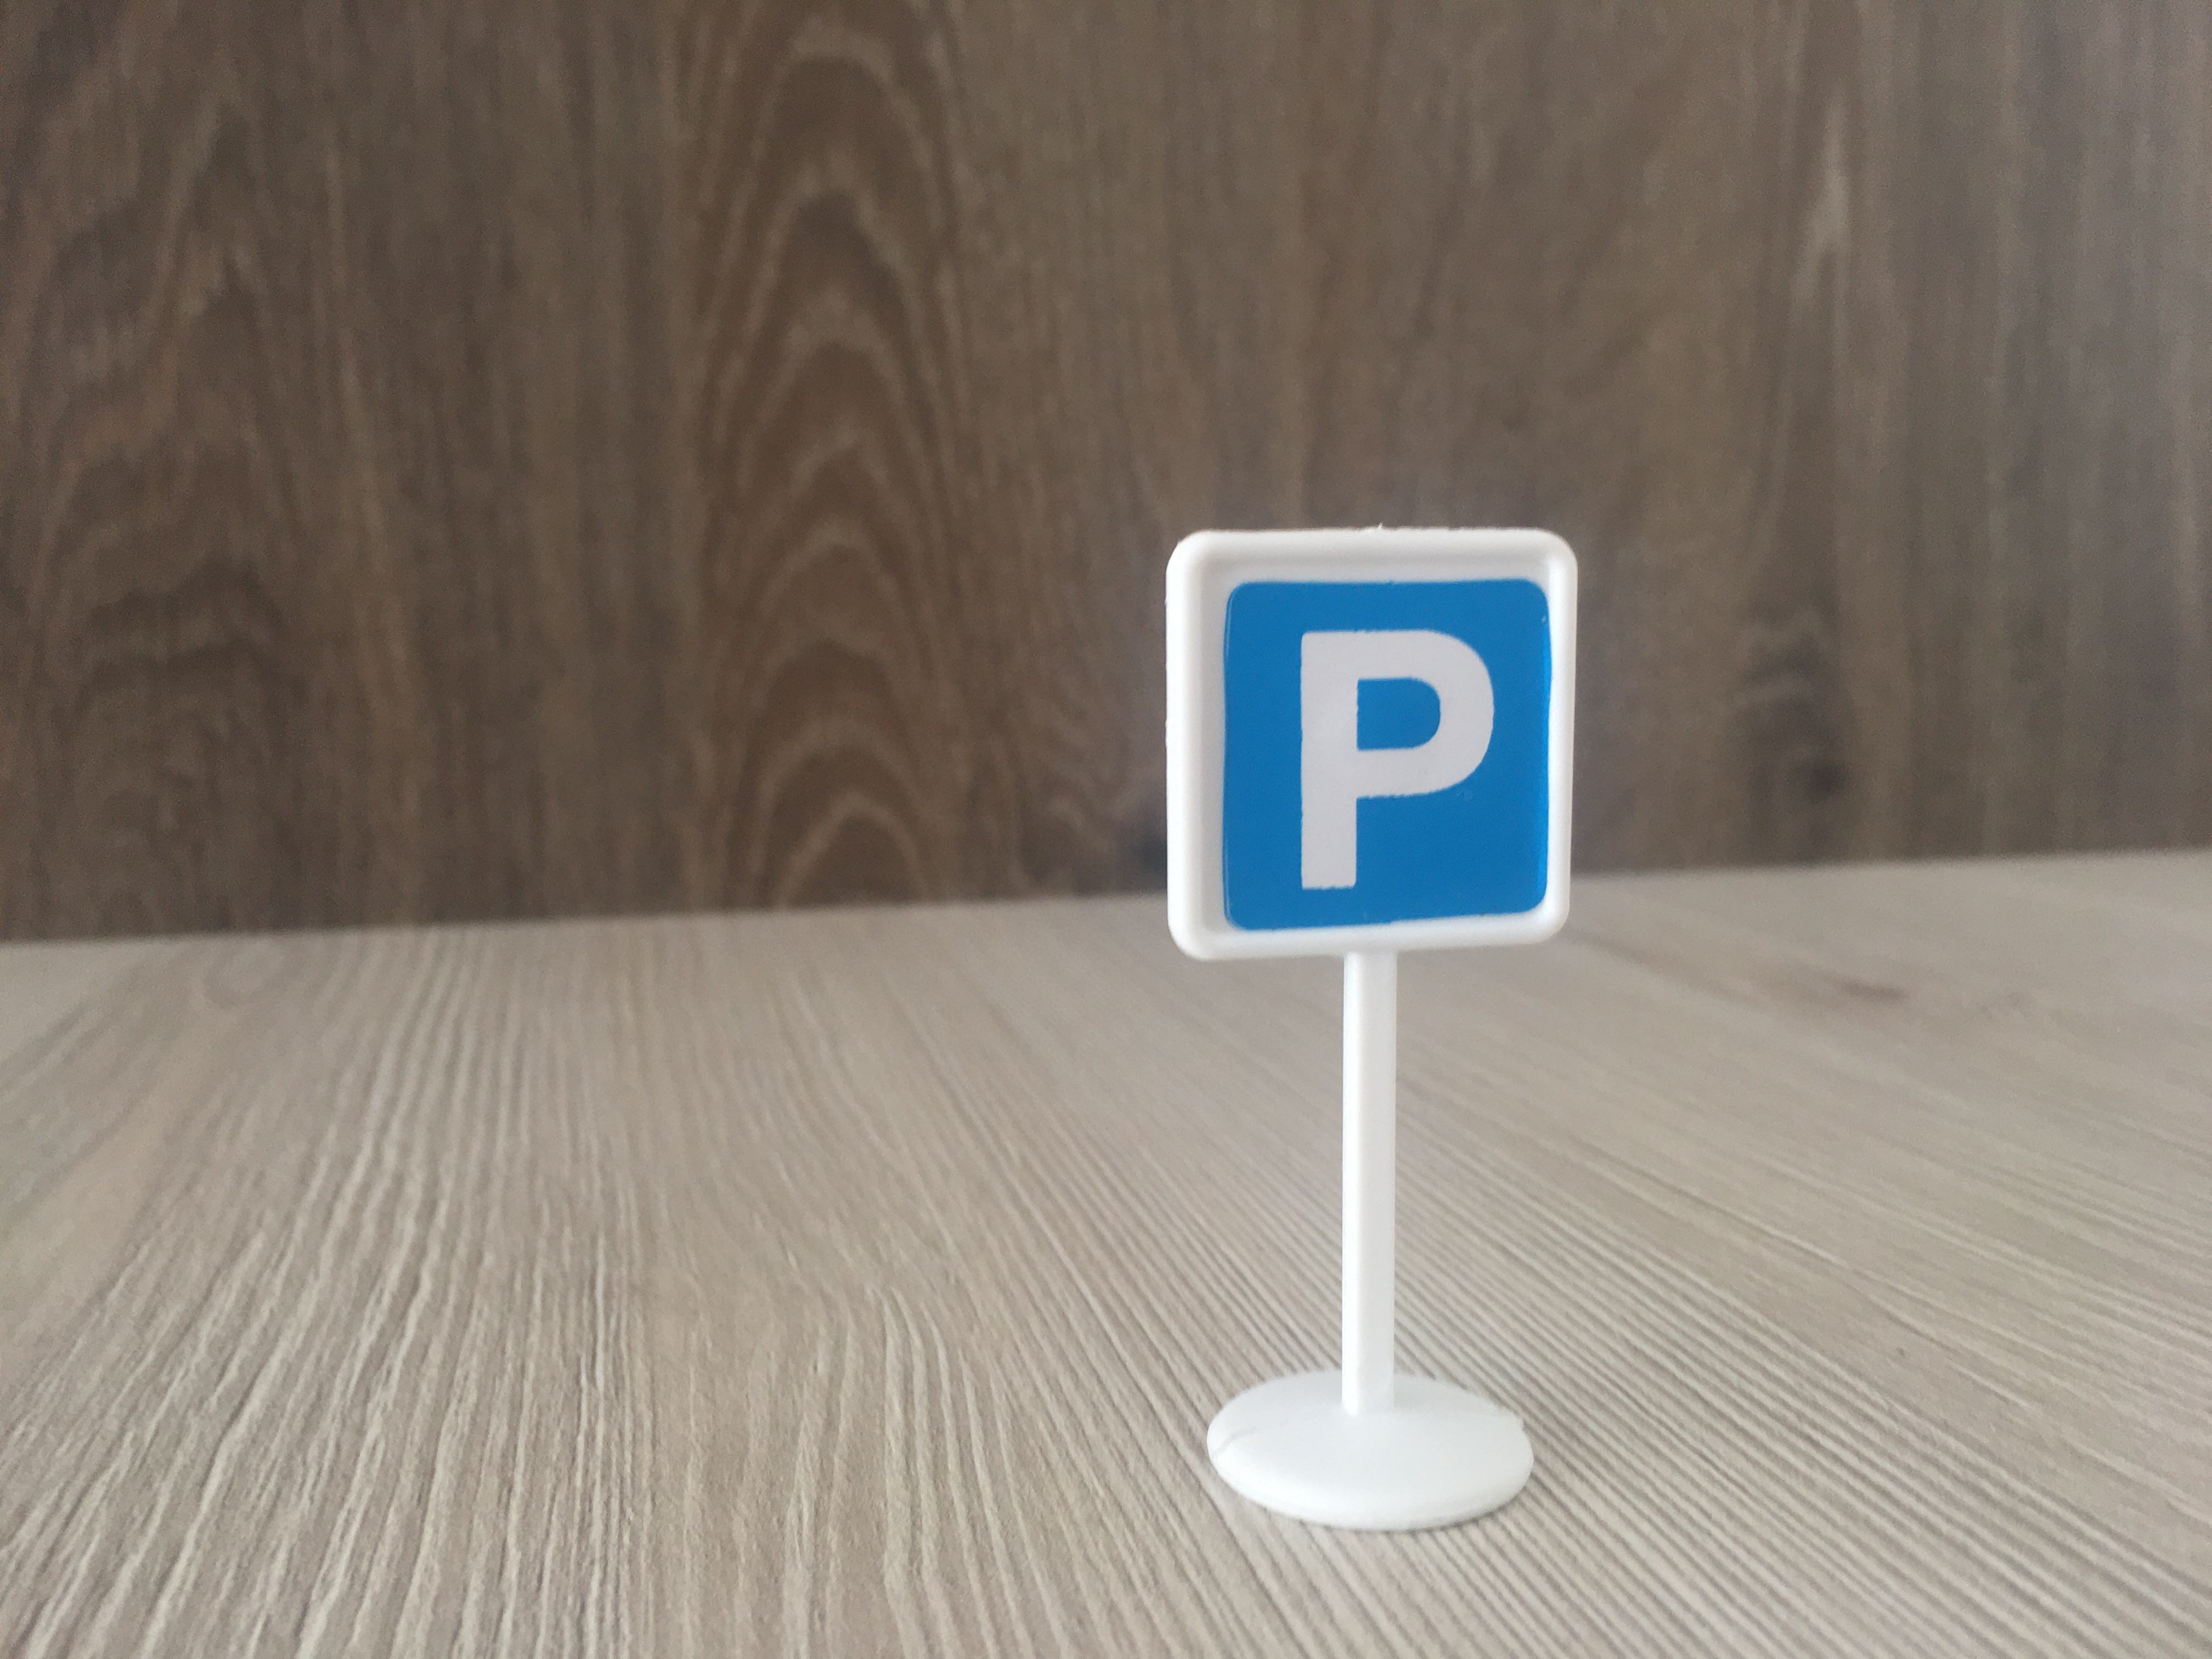parking: (1167, 525, 1580, 964)
